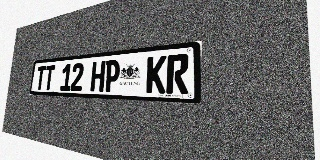1: (60, 64, 73, 91)
2: (70, 63, 84, 91)
H: (90, 61, 106, 92)
K: (146, 55, 167, 93)
P: (104, 59, 120, 92)
R: (166, 53, 189, 94)
T: (44, 65, 55, 90), (35, 66, 46, 90)
